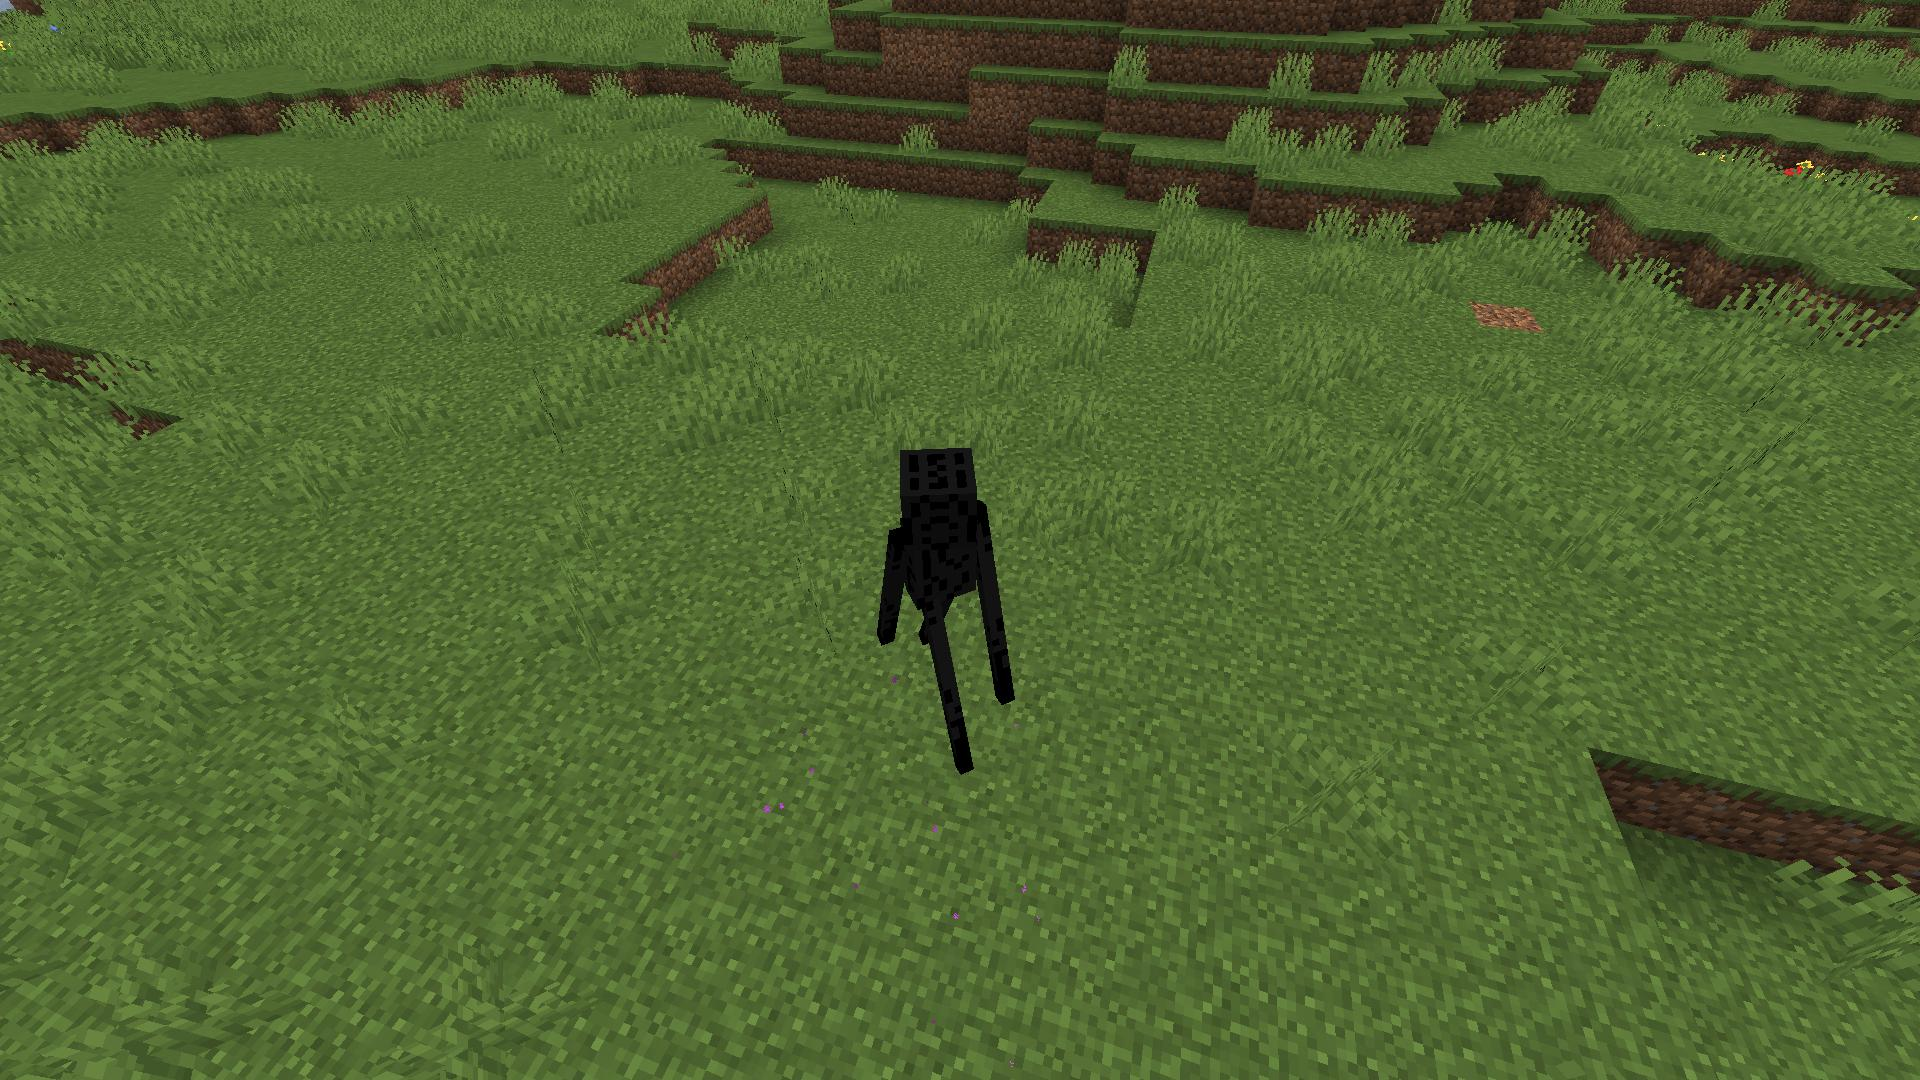enderman: (873, 443, 1022, 782)
